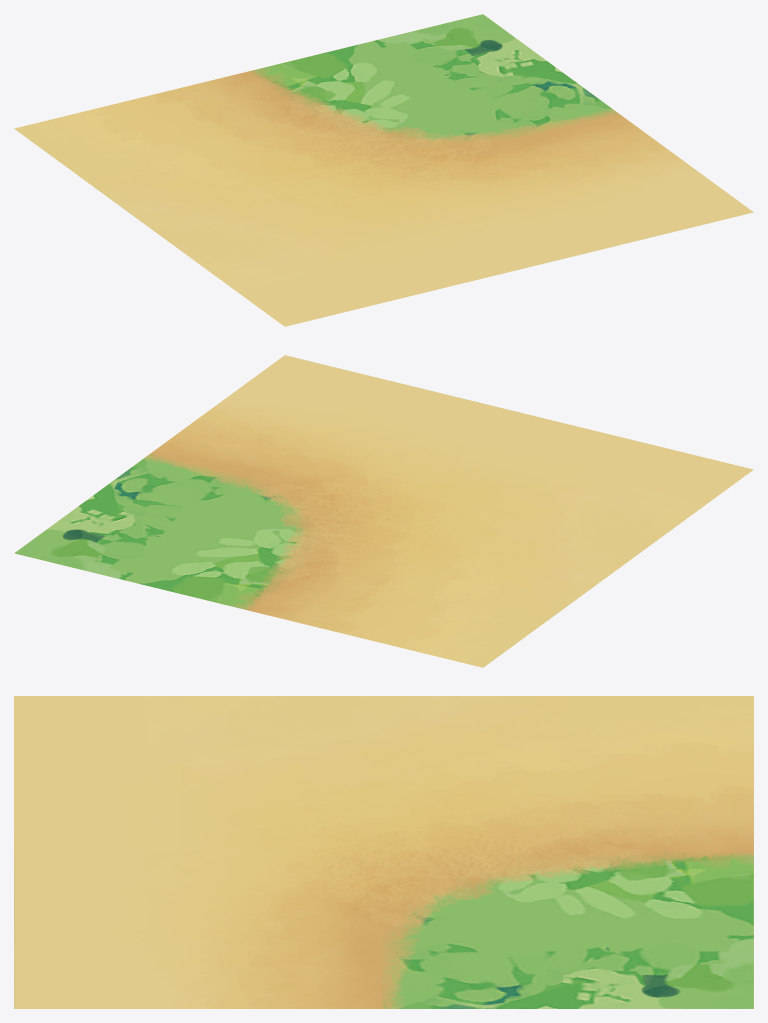
File: env_tiles_mesh_13.fbx
3 views of the same model, one above another, from view 1: azimuth 30°, elevation 25°; view 2: azimuth 150°, elevation 25°; view 3: azimuth 270°, elevation 25° (orthographic). The views are drawn at different scales.
Parts seen in each view (by area): view 1: T13; view 2: T13; view 3: T13.
Boxes of the visible parts, <box> form: T13: <box>14,14,753,326</box>; T13: <box>14,355,753,667</box>; T13: <box>14,696,753,1008</box>.
Size of the model in its own units: 1000 by 0 by 1000.
